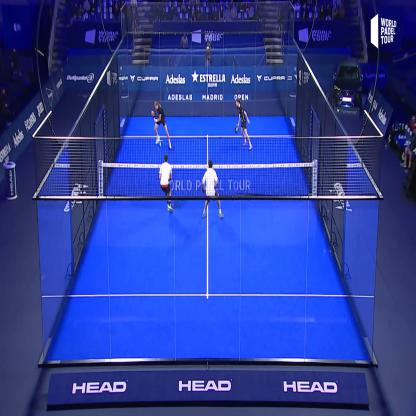ball: (158, 140, 164, 151)
